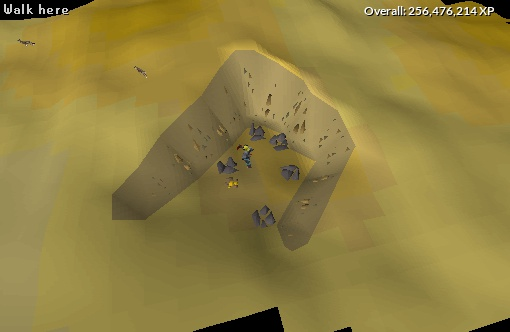depleted: (245, 203, 280, 230), (277, 159, 307, 187), (242, 119, 271, 146), (214, 155, 243, 178)
